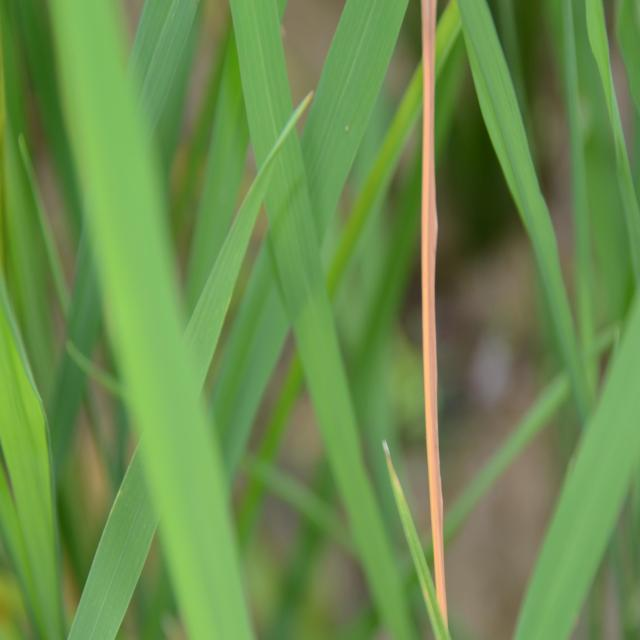Rice Tungro: (404, 0, 524, 640)
